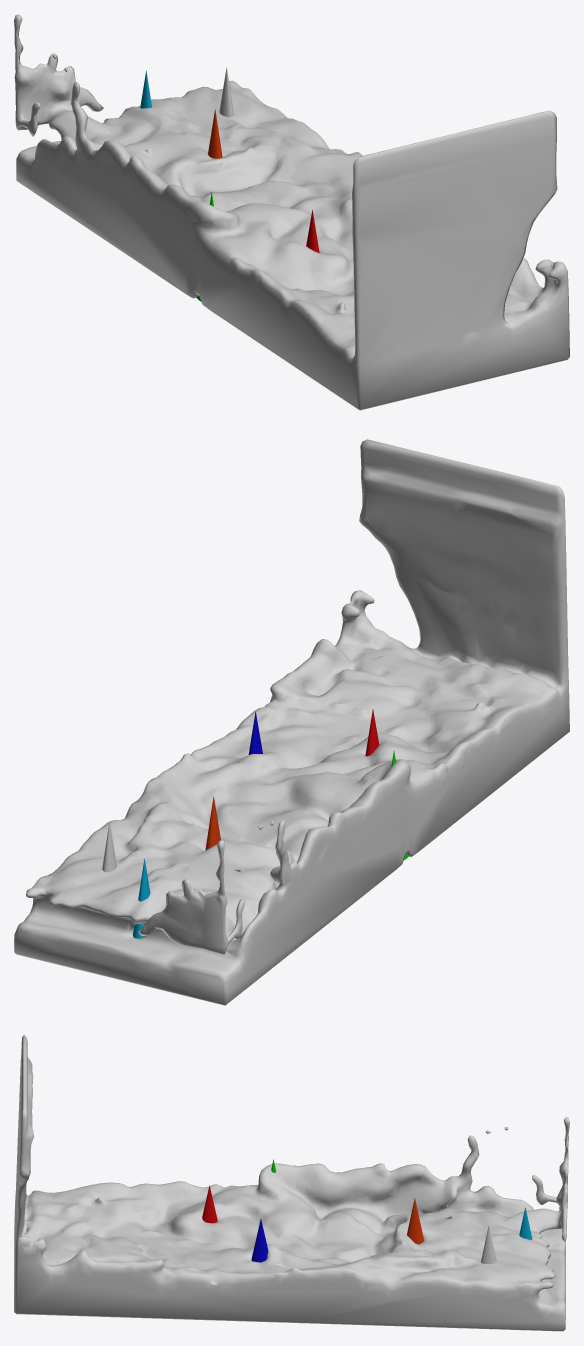
3 renders of one model, top to bottom at view 1: azimuth 30°, elevation 25°; view 2: azimuth 150°, elevation 25°; view 3: azimuth 270°, elevation 25°, orthographic. The views are drawn at different scales.
Parts seen in each view (by area): view 1: Liquid_Domain; view 2: Liquid_Domain; view 3: Liquid_Domain, 円錐.004, 円錐.002.
Part boxes in pixels (x1,y1,x2,y2): Liquid_Domain: [14, 14, 569, 410]; Liquid_Domain: [14, 439, 569, 1005]; Liquid_Domain: [14, 1035, 569, 1331]; 円錐.004: [407, 1198, 423, 1244]; 円錐.002: [251, 1219, 268, 1262].
Size of the model in its own units: 129 by 158 by 364.
